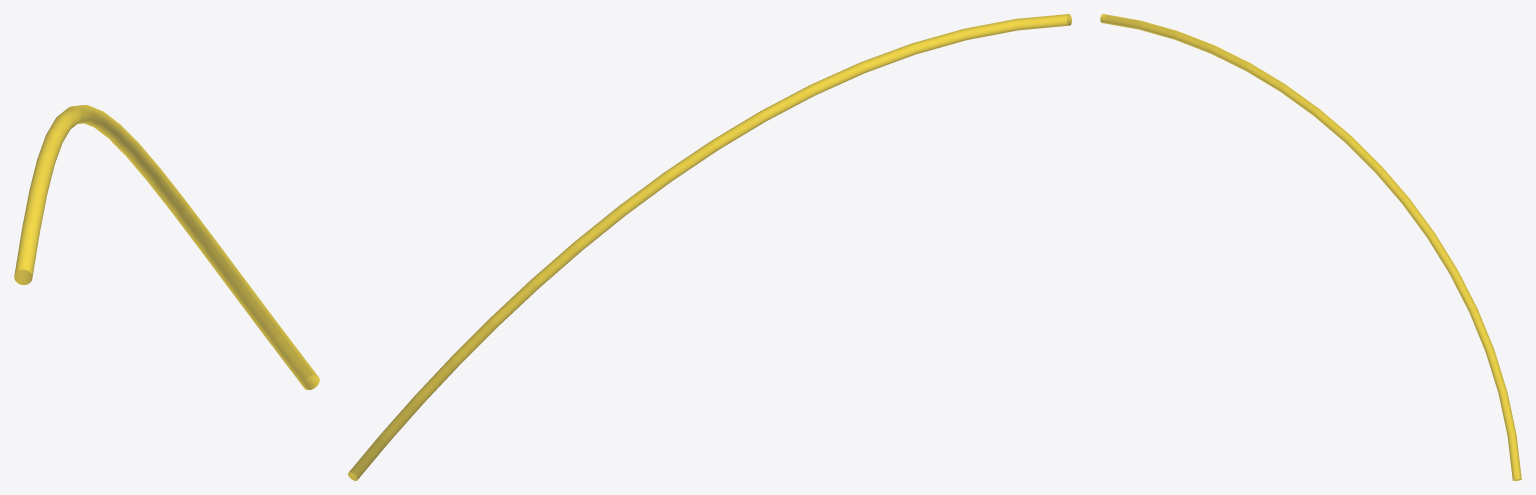
Rendered from Event_402970704_track_31.fbx.
The picture shows the model from 3 angles, left to right: view 1: azimuth 30°, elevation 25°; view 2: azimuth 150°, elevation 25°; view 3: azimuth 270°, elevation 25°; orthographic projection. The views are drawn at different scales.
Parts seen in each view (by area): view 1: Model; view 2: Model; view 3: Model.
Part boxes in pixels (x1=…): Model: x1=14, y1=105, x2=319, y2=389; Model: x1=348, y1=14, x2=1071, y2=480; Model: x1=1100, y1=14, x2=1521, y2=480.
Bounding box in the file's own units: 1.8 × 1.45 × 1.84.
